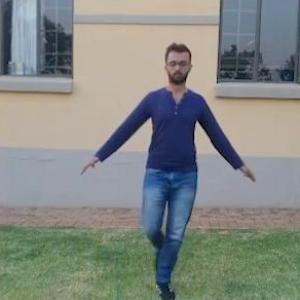land: (71, 21, 249, 284)
